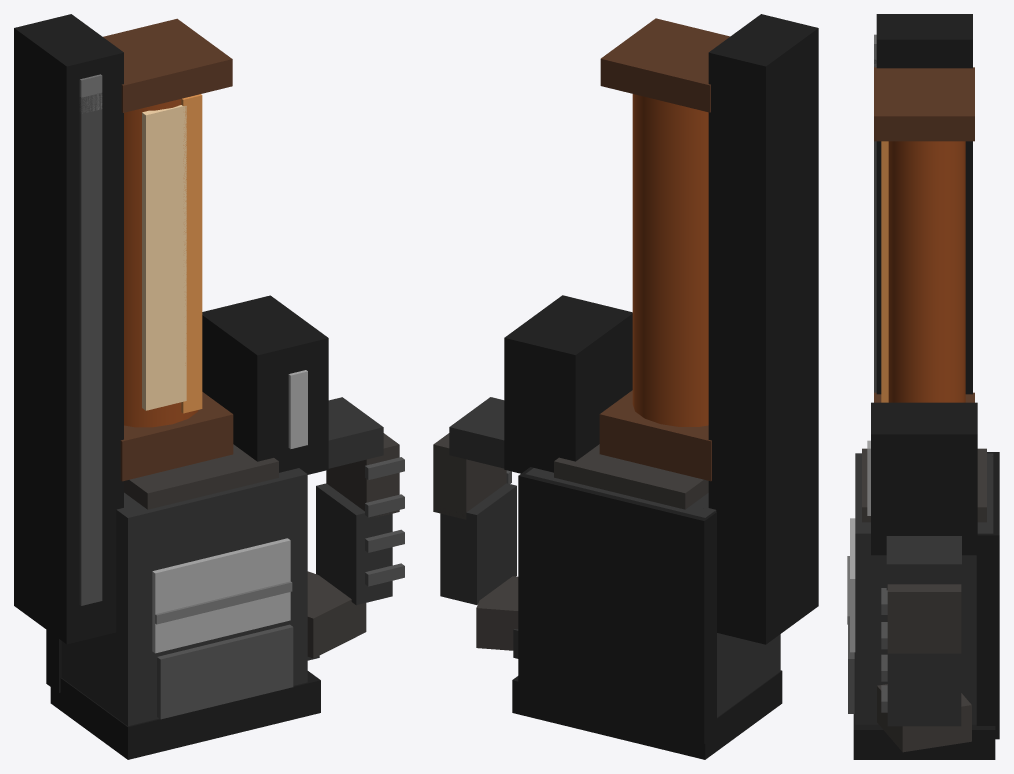
File: CMU3DEmptyLightReplacerCloud.glb
The picture shows the model from 3 angles, left to right: view 1: azimuth 30°, elevation 25°; view 2: azimuth 150°, elevation 25°; view 3: azimuth 270°, elevation 25°; orthographic projection. The views are drawn at different scales.
Visible parts, largest first — view 1: tall guide channel, main lower housing, top actuator block, cartridge pale fill, guide inner face, silver front service plate, base foot, lower black insert, tube top socket, orange tubular cartridge, handle outer lower, tube base socket (+9 smaller); view 2: tall guide channel, lower housing rear rib, orange tubular cartridge, top actuator block, tube top socket, handle outer lower, base foot, tube base socket, housing top joint, main lower housing, handle outer upper, handle upper bridge (+1 smaller); view 3: orange tubular cartridge, top actuator block, tall guide channel, main lower housing, tube top socket, handle outer lower, lower housing rear rib, handle outer upper, handle upper bridge, base foot, handle lower curved join, cartridge bright edge (+5 smaller).
Boxes of the visible parts, x1,y1,x2,y2 form: tall guide channel: (14, 14, 123, 644); main lower housing: (61, 468, 307, 725); top actuator block: (202, 295, 328, 474); cartridge pale fill: (142, 105, 186, 410); guide inner face: (79, 93, 102, 605); silver front service plate: (152, 538, 290, 653); base foot: (50, 671, 320, 759); lower black insert: (157, 624, 293, 719); tube top socket: (103, 18, 232, 112); orange tubular cartridge: (124, 99, 198, 427); handle outer lower: (316, 483, 392, 605); tube base socket: (120, 392, 233, 481); tall guide channel: (708, 14, 818, 644); lower housing rear rib: (518, 467, 716, 743); orange tubular cartridge: (632, 94, 708, 426); top actuator block: (504, 295, 632, 473); tube top socket: (600, 18, 729, 112); handle outer lower: (440, 483, 516, 604); base foot: (512, 670, 782, 759); tube base socket: (599, 390, 711, 481); housing top joint: (554, 444, 708, 509); main lower housing: (526, 468, 780, 717); handle outer upper: (433, 433, 506, 519); handle upper bridge: (449, 397, 504, 468); orange tubular cartridge: (888, 141, 965, 402); top actuator block: (871, 402, 977, 555); tall guide channel: (876, 14, 972, 394); main lower housing: (855, 453, 993, 724); tube top socket: (874, 67, 974, 141); handle outer lower: (887, 653, 961, 726); lower housing rear rib: (976, 452, 999, 739); handle outer upper: (887, 584, 961, 653); handle upper bridge: (886, 536, 961, 590); base foot: (853, 652, 995, 759); handle lower curved join: (877, 684, 971, 752); cartridge bright edge: (881, 141, 888, 402).
Bounding box in the file's own units: 0.392 × 0.7656 × 0.166.
